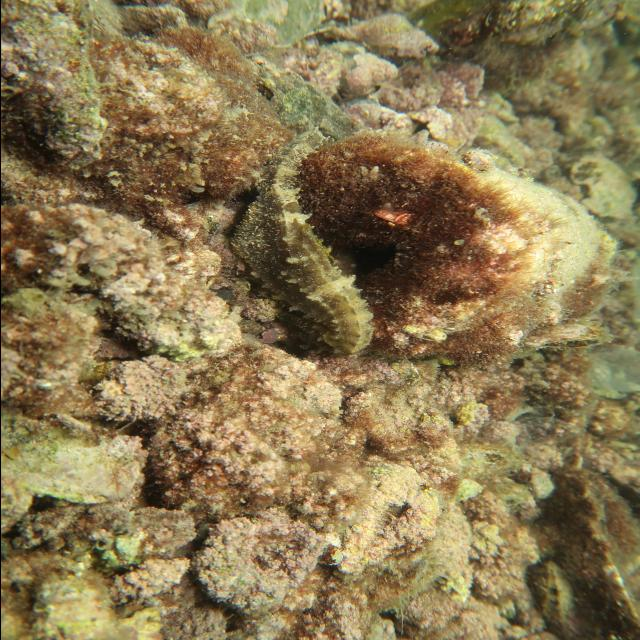Guttu: (255, 308, 378, 357)
